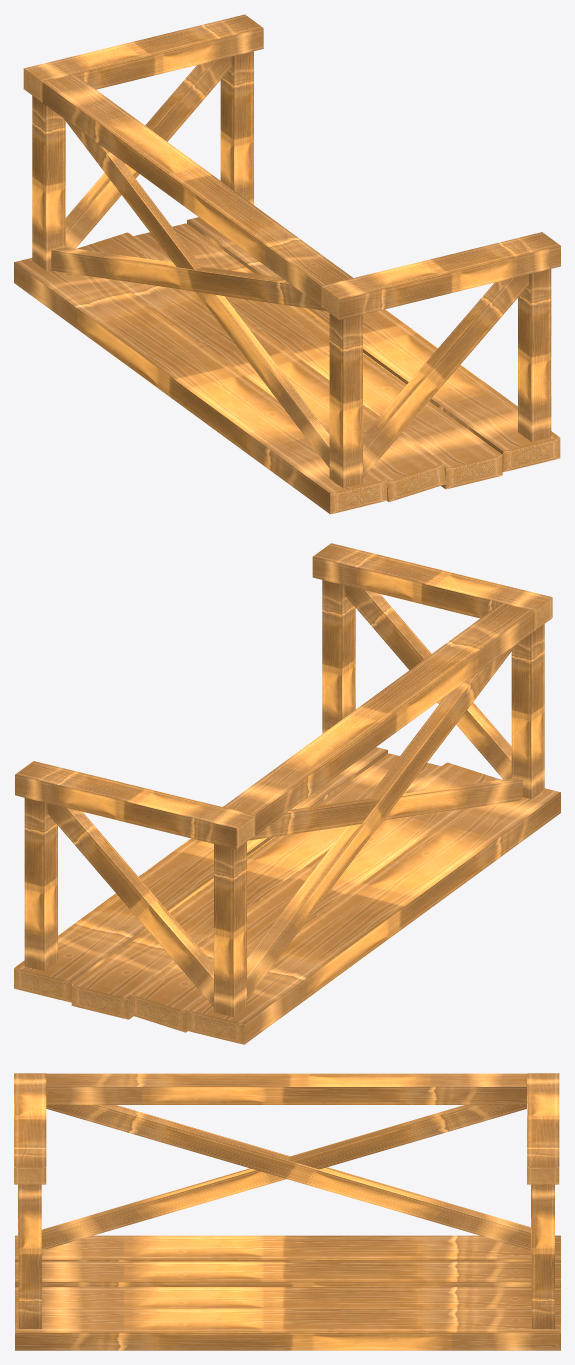
The model's file is SM_Wood_Balcony_04.fbx.
3 renders of one model, top to bottom at view 1: azimuth 30°, elevation 25°; view 2: azimuth 150°, elevation 25°; view 3: azimuth 270°, elevation 25°, orthographic. The views are drawn at different scales.
Visible parts, largest first — view 1: SM_Wood_Balcony_04_LOD0; view 2: SM_Wood_Balcony_04_LOD0; view 3: SM_Wood_Balcony_04_LOD0.
Part boxes in pixels (x1,y1,x2,y2): SM_Wood_Balcony_04_LOD0: (14, 14, 560, 514); SM_Wood_Balcony_04_LOD0: (14, 543, 560, 1044); SM_Wood_Balcony_04_LOD0: (14, 1073, 560, 1350).
Size of the model in its own units: 83.95 by 200 by 75.38.
